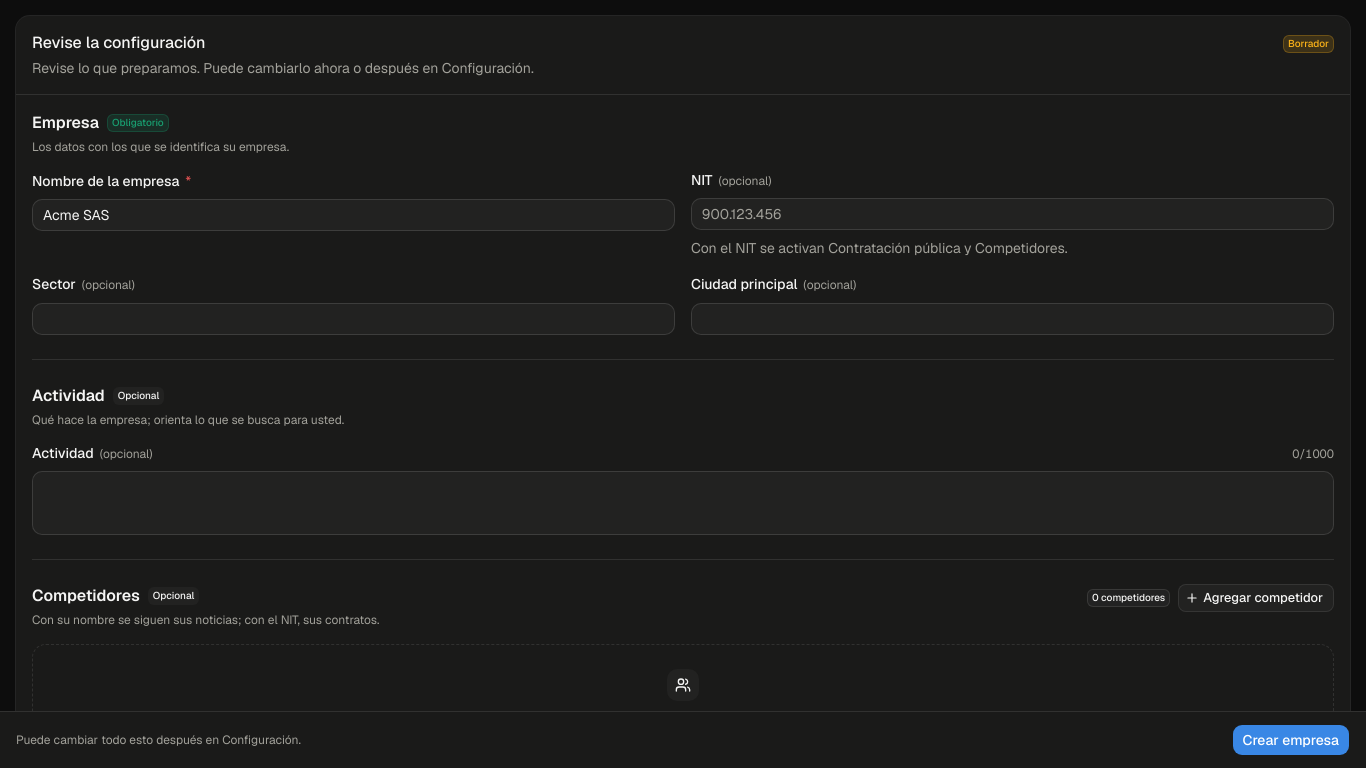
Test: ConfirmForm competitors › keeps the save button disabled for an invalid NIT
Click the button "Agregar competidor" at [1256, 598], box [1178,584,1334,612]
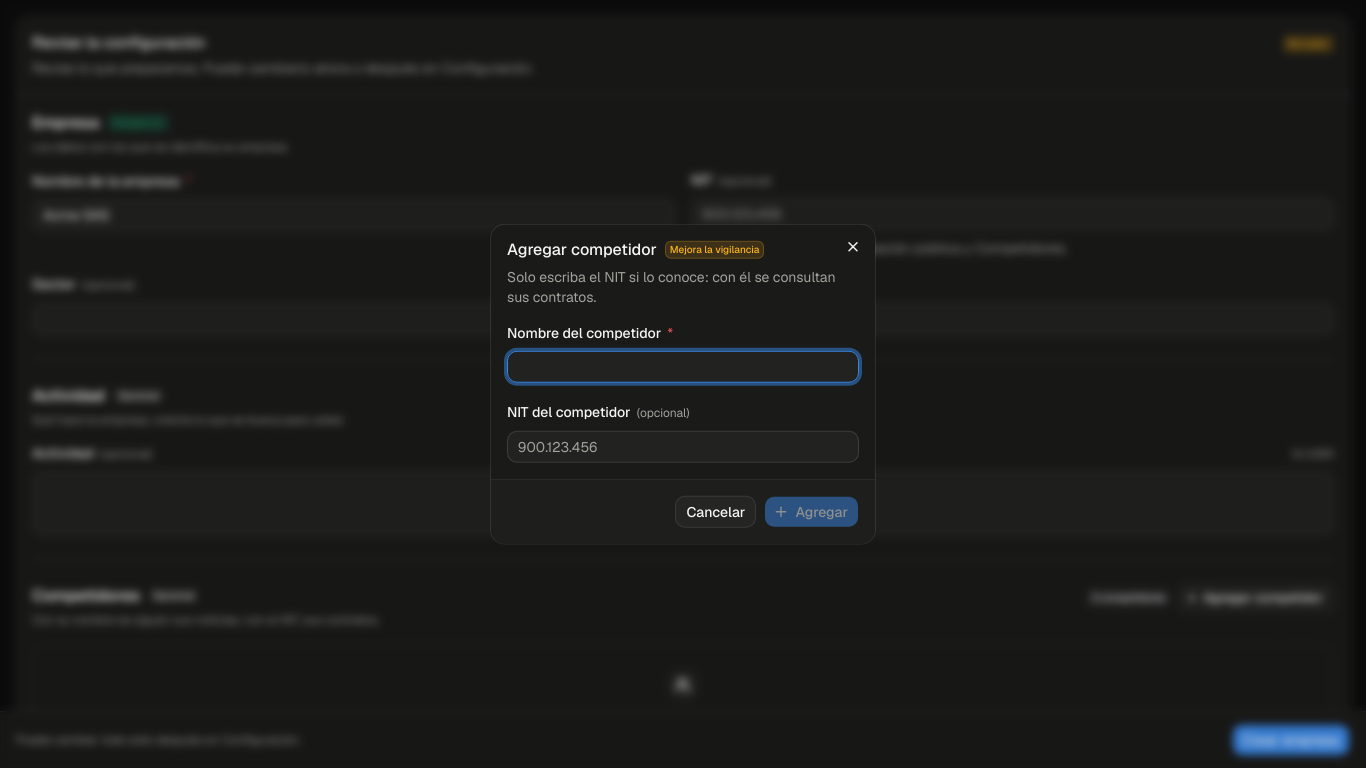
Type "Colanta" into the field labelled "Nombre del competidor" at [683, 367], box [507,351,859,383]
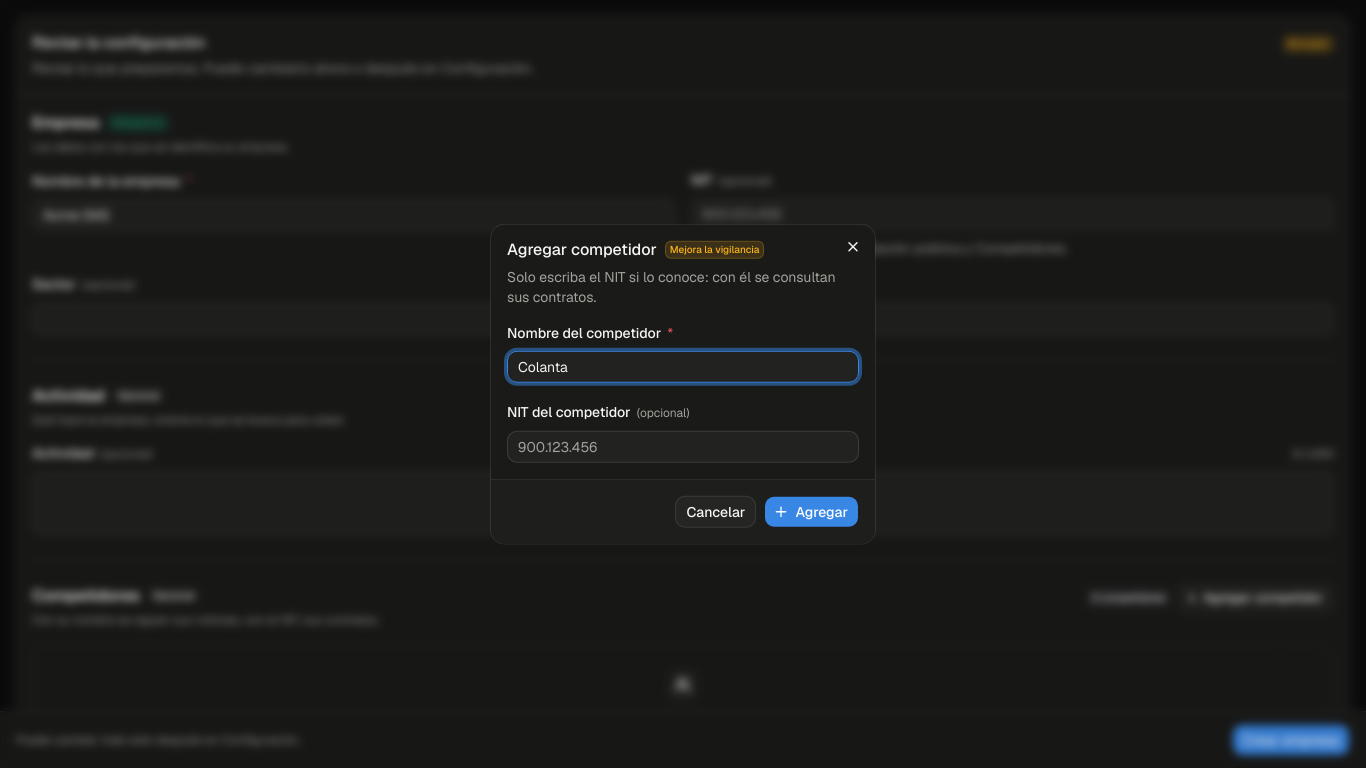
Type "12" into the field labelled "NIT del competidor" at [683, 446], box [508,430,858,462]
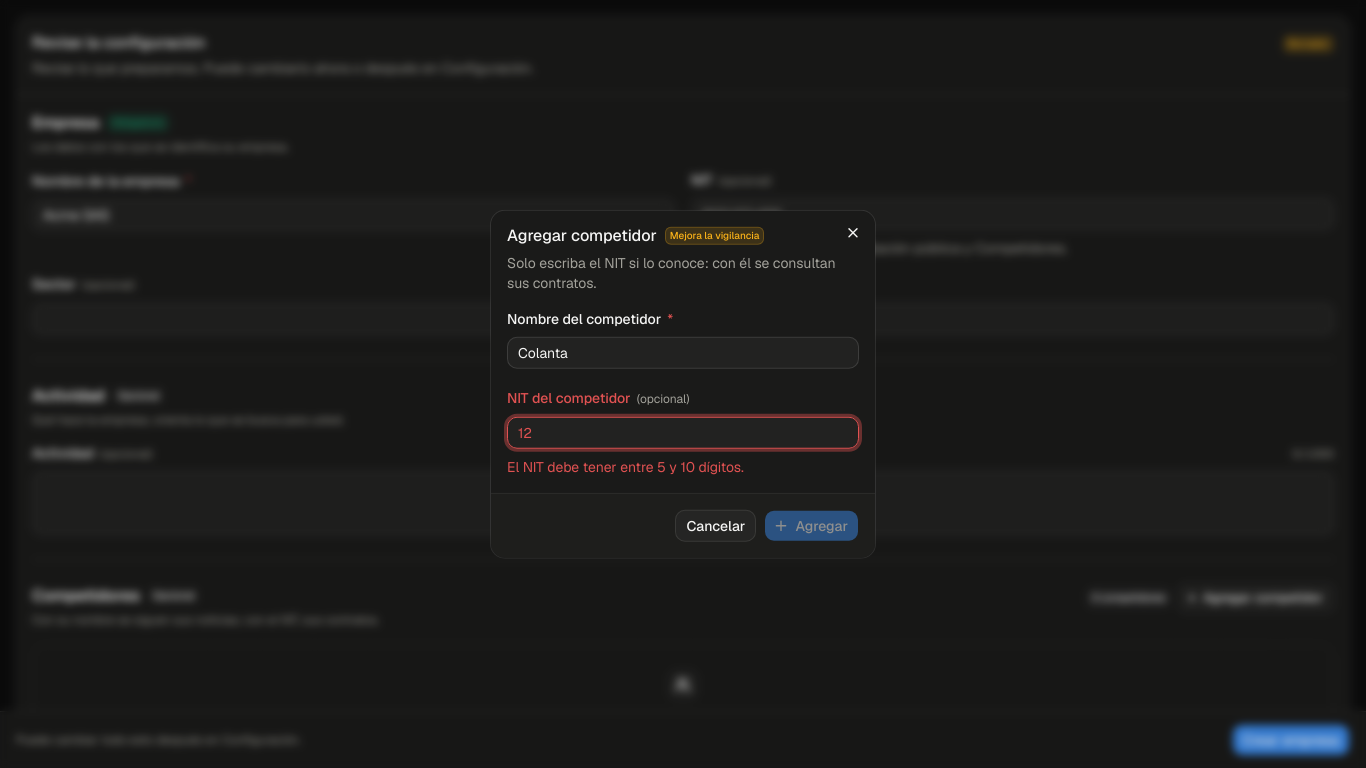
Now the button "Agregar" is disabled, box [764,509,859,541]
